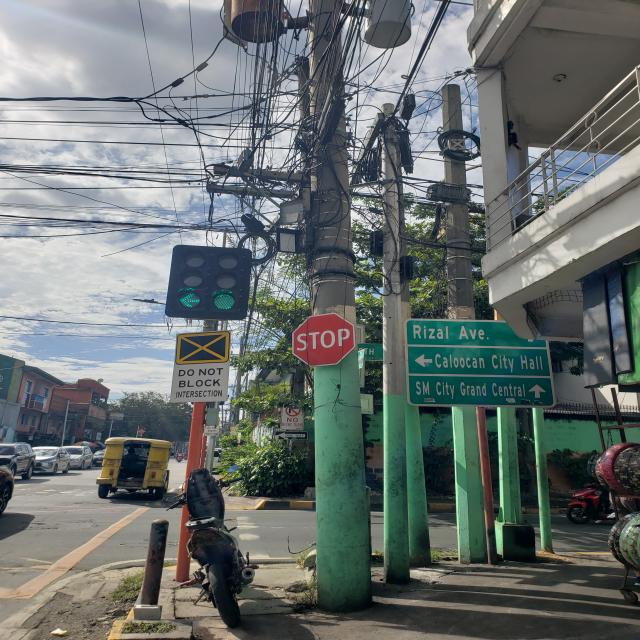stop-sign: (292, 312, 356, 368)
